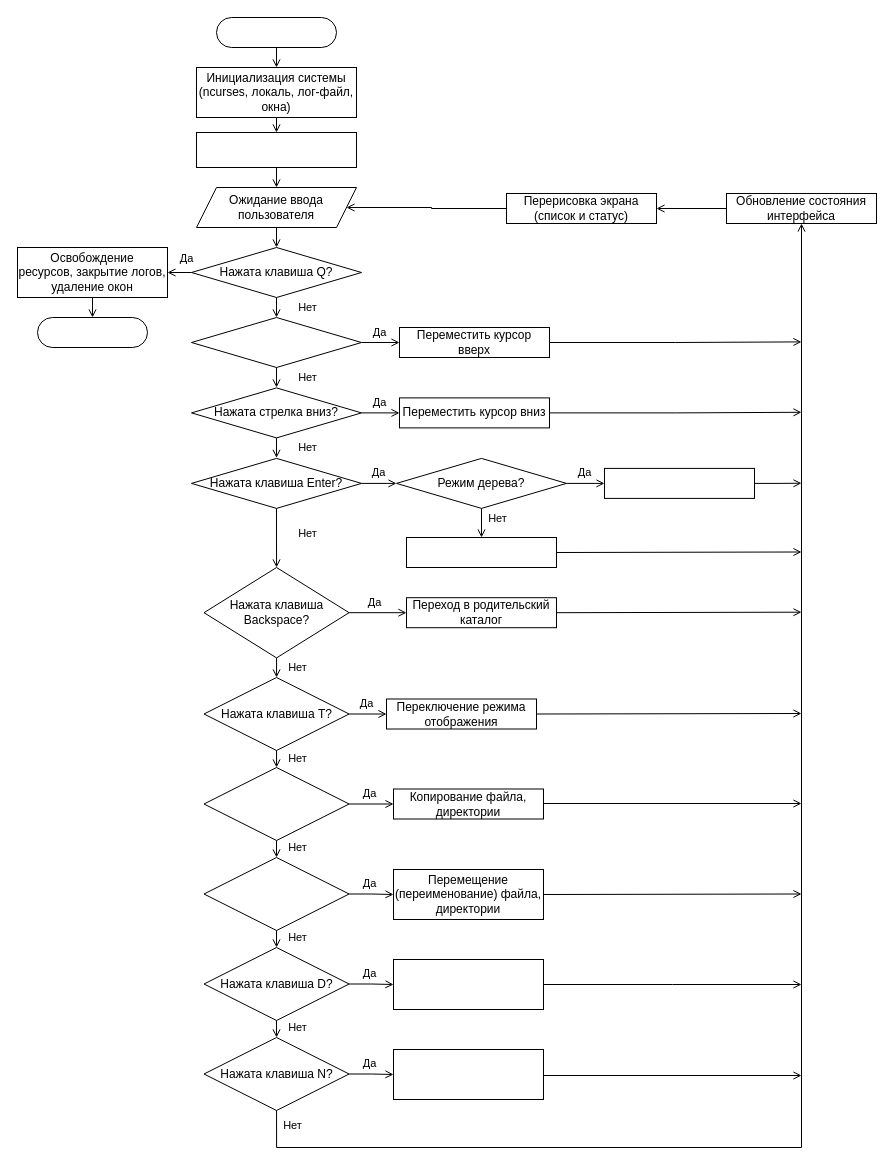
Some shapes in this 894 by 1173 pixel diagram are drawn without their labels. The box of each missing label's shape, as (x1, y1, x2, y2) in pixels:
Загрузка данных и отрисовка интерфейса: (196, 132, 356, 168)
Конец: (36, 316, 148, 348)
Нажата клавиша C?: (203, 766, 349, 840)
Нажата клавиша M?: (203, 856, 349, 930)
Нажата стрелка вверх?: (190, 316, 362, 368)
Начало: (216, 16, 336, 48)
Открыть папку или выбрать файл: (406, 536, 556, 568)
Открыть, закрыть папку или выбрать файл: (604, 467, 754, 498)
Создание файла, директории: (392, 1048, 544, 1100)
Удаление файла, директории: (392, 958, 544, 1010)
